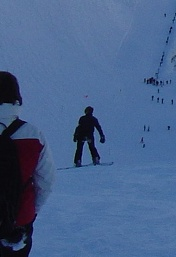person: (73, 103, 101, 169)
